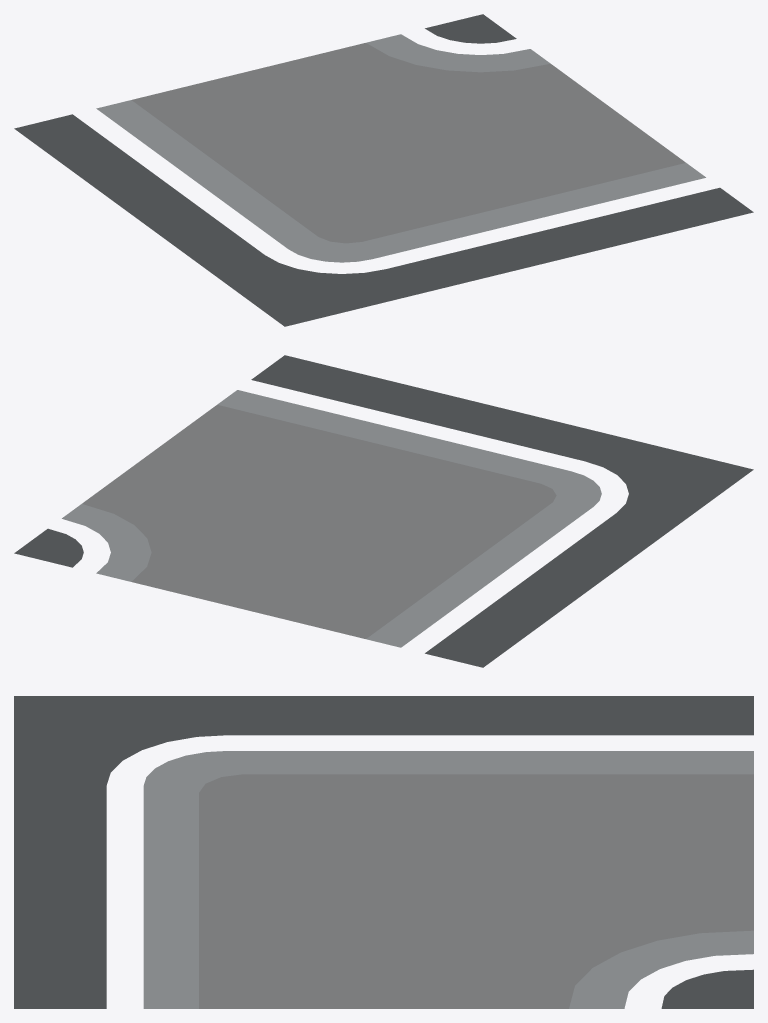
The model's file is Ceiling_type_B_019.glb.
The picture shows the model from 3 angles, top to bottom: view 1: azimuth 30°, elevation 25°; view 2: azimuth 150°, elevation 25°; view 3: azimuth 270°, elevation 25°; orthographic projection. The views are drawn at different scales.
Visible parts, largest first — view 1: Ceiling_type_B_019; view 2: Ceiling_type_B_019; view 3: Ceiling_type_B_019.
Part boxes in pixels (left/top/right/bottom): Ceiling_type_B_019: left=14, top=14, right=753, bottom=326; Ceiling_type_B_019: left=14, top=355, right=753, bottom=667; Ceiling_type_B_019: left=14, top=696, right=753, bottom=1008.
Size of the model in its own units: 4 by 0.057 by 4.
2 materials, 2 textured.
